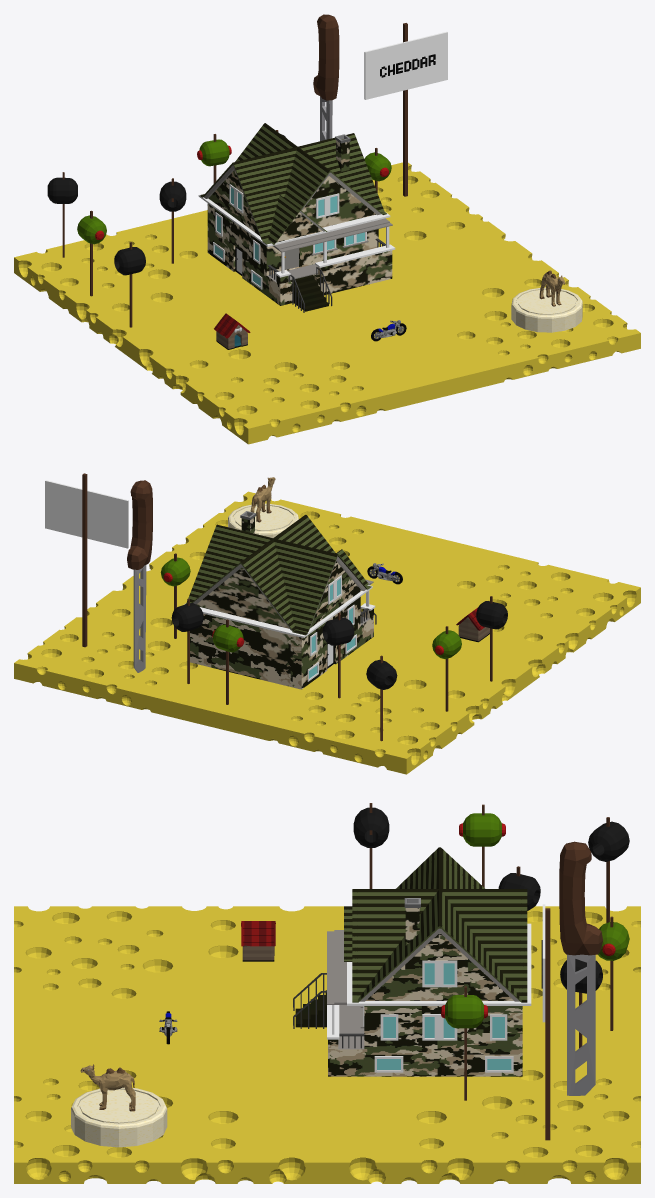
3 views of the same model, one above another, from view 1: azimuth 30°, elevation 25°; view 2: azimuth 150°, elevation 25°; view 3: azimuth 270°, elevation 25° (orthographic). The views are drawn at different scales.
Visible parts, largest first — view 1: Cube.022, Cube.001, Cube.023, Cylinder.016, Cube.024, Sphere.017, Sphere.016, OBJRANDOM_DOGHOUSE, Sphere.020, Sphere.018, Sphere.022, Sphere.019; view 2: Cube.022, Cube.001, Cube.023, Cube.024, Cylinder.016, Sphere.017, Sphere.020, Sphere.021, Sphere.016, Sphere.018, Sphere.022, Sphere.019 (+3 smaller); view 3: Cube.022, Cube.001, Cube.024, Cylinder.016, Cube.023, Sphere.019, Sphere.016, Sphere.018, OBJRANDOM_DOGHOUSE, Sphere.017, Sphere.022, ANIMAL_CAMELLO (+2 smaller).
Part boxes in pixels (box(x1,y1,x2,y2)): Cube.022: box(14, 162, 640, 444); Cube.001: box(198, 123, 395, 312); Cube.023: box(364, 23, 447, 196); Cylinder.016: box(511, 287, 582, 332); Cube.024: box(313, 14, 339, 141); Sphere.017: box(114, 242, 145, 327); Sphere.016: box(47, 172, 77, 257); OBJRANDOM_DOGHOUSE: box(214, 313, 250, 349); Sphere.020: box(159, 178, 186, 263); Sphere.018: box(77, 210, 106, 296); Sphere.022: box(197, 134, 231, 183); Sphere.019: box(364, 148, 391, 192); Cube.022: box(14, 491, 640, 774); Cube.001: box(184, 511, 376, 689); Cube.023: box(45, 473, 128, 647); Cube.024: box(127, 480, 152, 672); Cylinder.016: box(228, 503, 298, 537); Sphere.017: box(476, 596, 507, 681); Sphere.020: box(322, 612, 354, 698); Sphere.021: box(171, 598, 203, 683); Sphere.016: box(366, 655, 397, 741); Sphere.018: box(432, 626, 461, 711); Sphere.022: box(212, 619, 244, 704); Sphere.019: box(160, 553, 190, 638); Cube.022: box(14, 906, 640, 1183); Cube.001: box(293, 847, 531, 1076); Cube.024: box(559, 841, 602, 1095); Cylinder.016: box(71, 1087, 167, 1147); Cube.023: box(541, 904, 550, 1140); Sphere.019: box(441, 986, 487, 1100); Sphere.016: box(588, 817, 629, 922); Sphere.018: box(459, 804, 505, 887); OBJRANDOM_DOGHOUSE: box(241, 921, 275, 961); Sphere.017: box(353, 803, 389, 888); Sphere.022: box(598, 916, 629, 1030); ANIMAL_CAMELLO: box(80, 1064, 135, 1111).
Bounding box in the file's own units: 3917 × 2007 × 4000.
Materials: 38 (5 with a texture image).
